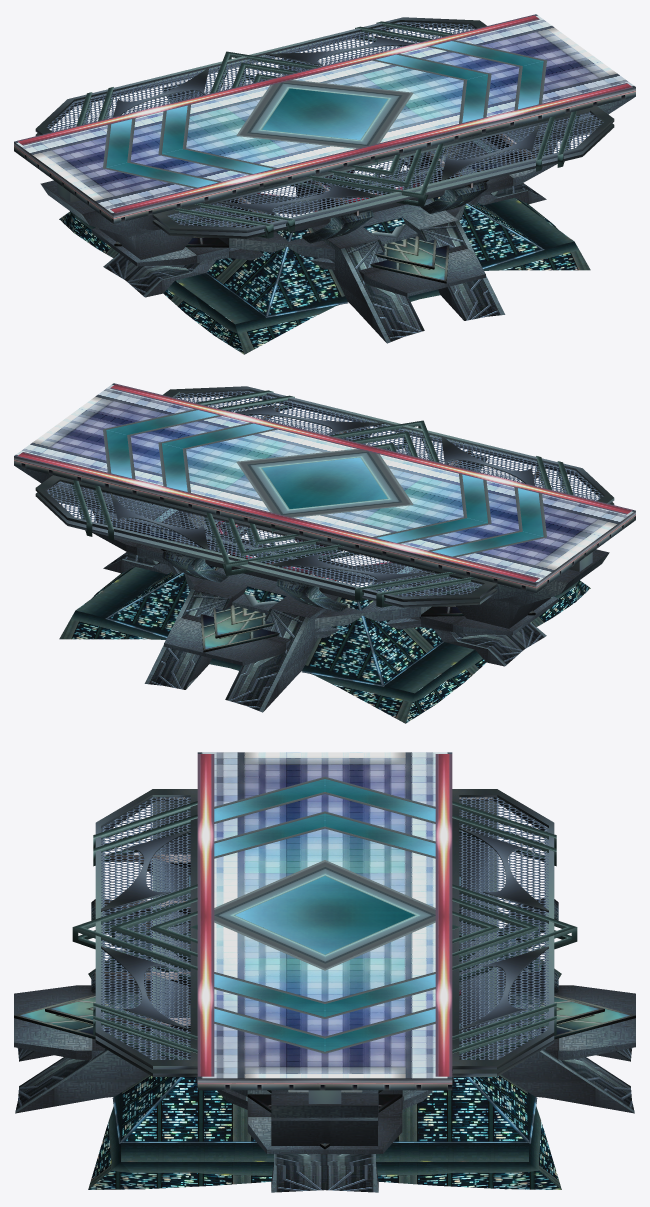
File: FinalDestinationStage.fbx
The picture shows the model from 3 angles, top to bottom: view 1: azimuth 30°, elevation 25°; view 2: azimuth 150°, elevation 25°; view 3: azimuth 270°, elevation 25°; orthographic projection. The views are drawn at different scales.
Parts seen in each view (by area): view 1: polygon30, polygon27, polygon0, polygon2, polygon32, polygon31, polygon20, polygon28, polygon34, polygon41, polygon33, polygon24 (+3 smaller); view 2: polygon30, polygon27, polygon0, polygon2, polygon32, polygon31, polygon20, polygon28, polygon34, polygon41, polygon33, polygon24 (+2 smaller); view 3: polygon30, polygon27, polygon2, polygon0, polygon32, polygon31, polygon20, polygon34, polygon41, polygon28, polygon24, polygon33 (+3 smaller).
Boxes of the visible parts, <box> form: polygon30: <box>14,14,635,214</box>; polygon27: <box>59,196,590,354</box>; polygon0: <box>40,96,635,342</box>; polygon2: <box>35,17,614,238</box>; polygon32: <box>47,22,603,227</box>; polygon31: <box>106,41,543,187</box>; polygon20: <box>76,21,579,238</box>; polygon28: <box>103,183,545,343</box>; polygon34: <box>103,40,546,188</box>; polygon41: <box>17,14,632,213</box>; polygon33: <box>14,87,635,223</box>; polygon24: <box>114,160,500,283</box>; polygon30: <box>14,383,635,583</box>; polygon27: <box>59,565,590,723</box>; polygon0: <box>14,465,609,711</box>; polygon2: <box>35,386,614,607</box>; polygon32: <box>47,391,603,596</box>; polygon31: <box>106,410,543,556</box>; polygon20: <box>70,390,573,607</box>; polygon28: <box>104,526,546,712</box>; polygon34: <box>103,409,546,557</box>; polygon41: <box>17,383,632,582</box>; polygon33: <box>14,456,635,592</box>; polygon24: <box>147,523,535,652</box>; polygon30: <box>189,752,460,1078</box>; polygon27: <box>88,950,561,1189</box>; polygon2: <box>95,789,554,1103</box>; polygon0: <box>14,864,635,1190</box>; polygon32: <box>101,797,548,1059</box>; polygon31: <box>214,779,435,1051</box>; polygon20: <box>72,801,577,1059</box>; polygon34: <box>214,776,435,1053</box>; polygon41: <box>197,754,452,1076</box>; polygon28: <box>15,968,634,1192</box>; polygon24: <box>14,994,635,1149</box>; polygon33: <box>197,1078,452,1090</box>.
Size of the model in its own units: 176 by 41.46 by 140.
21 materials, 19 textured.
